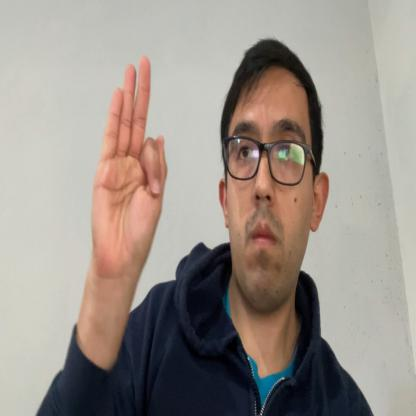F: (92, 57, 167, 273)
